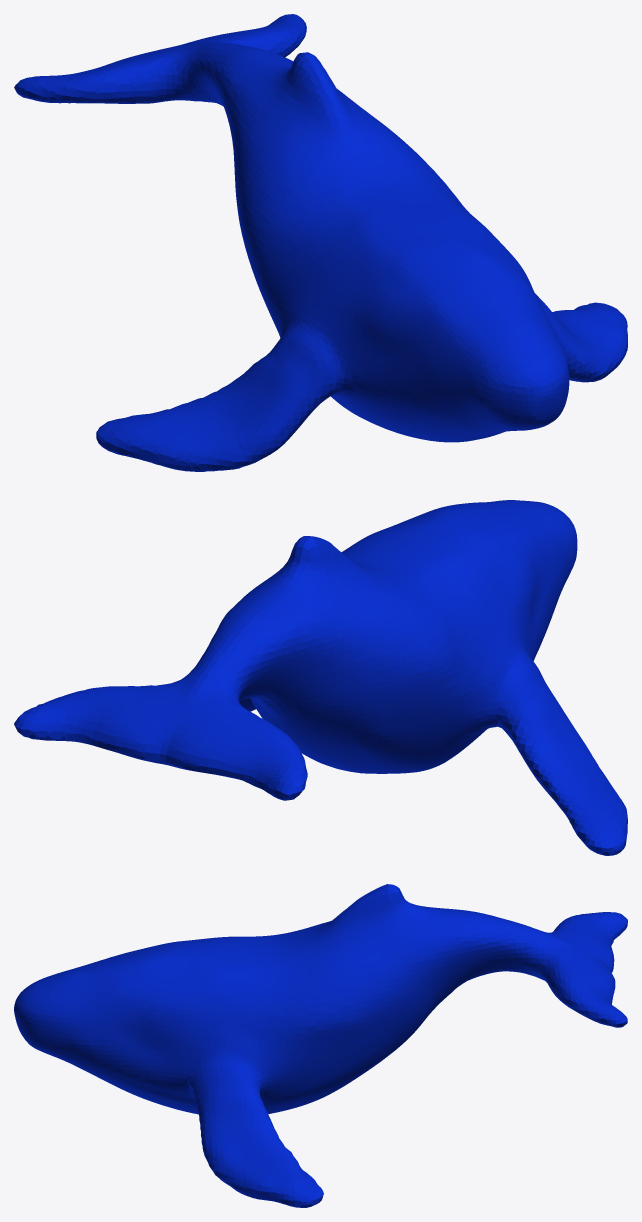
Rendered from whale.obj.
The picture shows the model from 3 angles, top to bottom: view 1: azimuth 30°, elevation 25°; view 2: azimuth 150°, elevation 25°; view 3: azimuth 270°, elevation 25°; orthographic projection. The views are drawn at different scales.
Parts seen in each view (by area): view 1: 20435_Humpback_Whale_v1; view 2: 20435_Humpback_Whale_v1; view 3: 20435_Humpback_Whale_v1.
Boxes of the visible parts, <box> form: 20435_Humpback_Whale_v1: <box>14,14,627,471</box>; 20435_Humpback_Whale_v1: <box>14,500,627,855</box>; 20435_Humpback_Whale_v1: <box>14,884,627,1207</box>.
Size of the model in its own units: 13.82 by 7.59 by 18.27.
